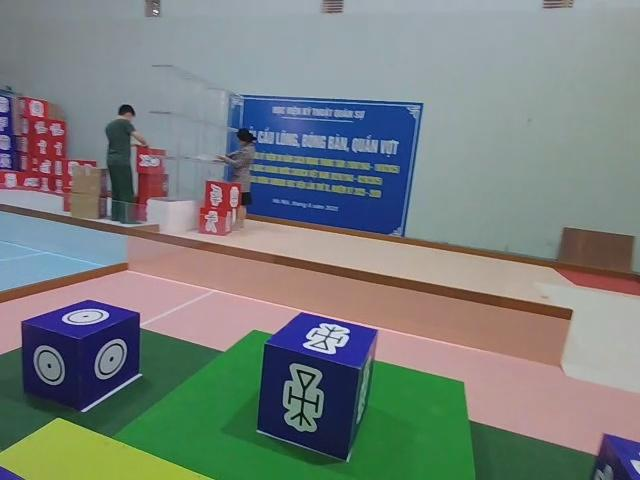R2 Real Blue: (256, 313, 378, 463), (22, 300, 140, 411)
